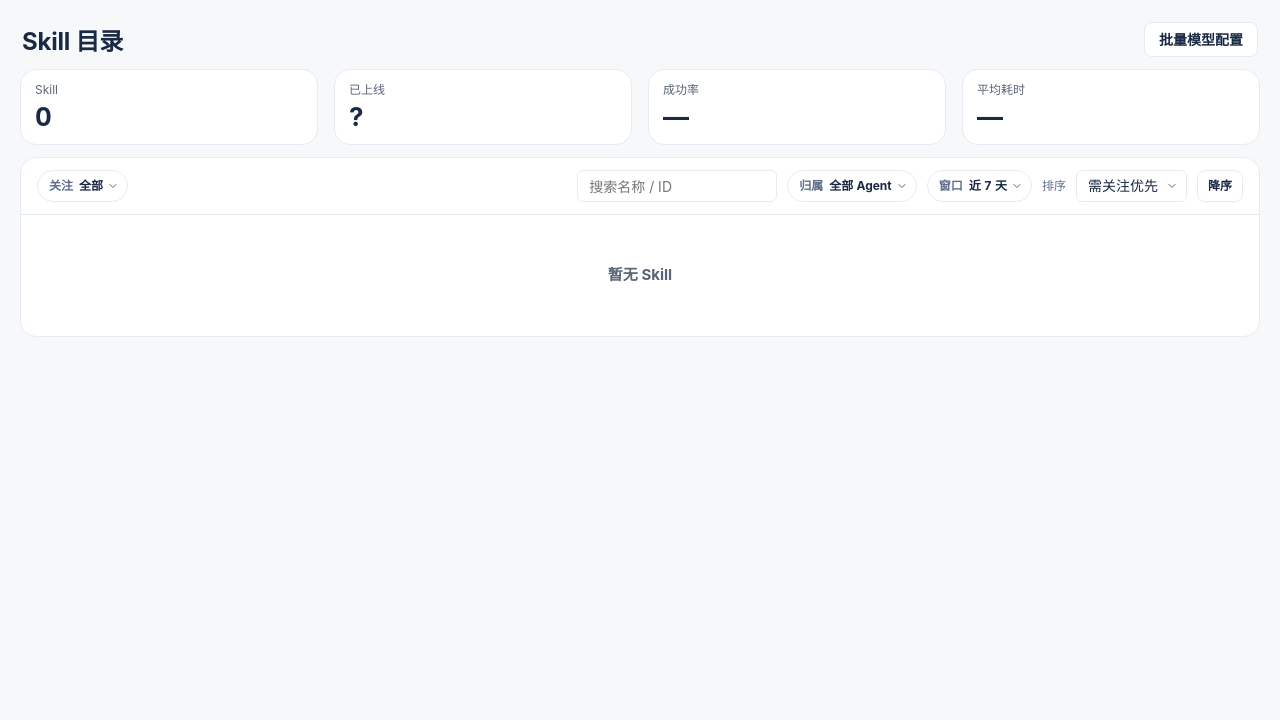
Scenario: Skills 页 tab 收敛（健康中心独立成页） › 页头「批量模型配置」打开覆盖矩阵弹窗（原「模型路由」页签的替代落点）
What coordinates should you click on to do the following:
click the button "批量模型配置"
I would click on:
 (1201, 40)
Its box is [1144, 22, 1258, 57].
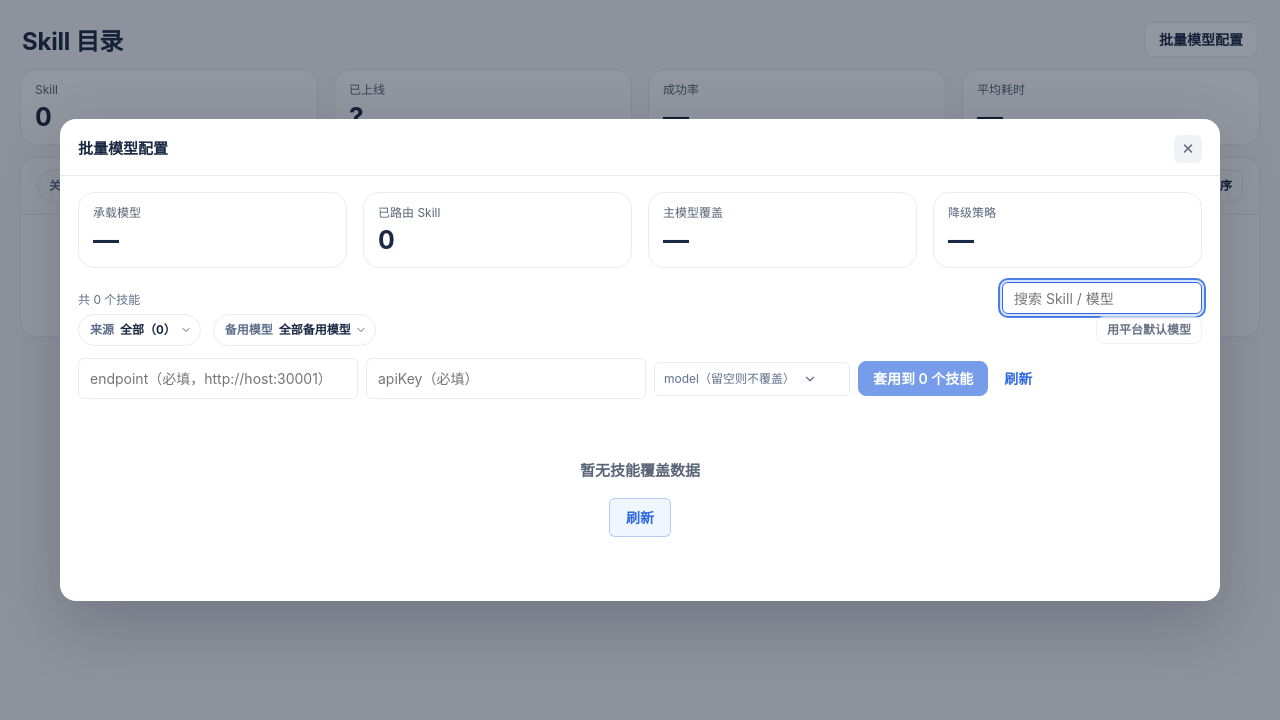
Expected: the dialog is shown
Expected: the dialog shows "批量模型配置", [78, 139, 168, 158]
Expected: the element with class "skc" is shown, [78, 282, 1202, 585]
